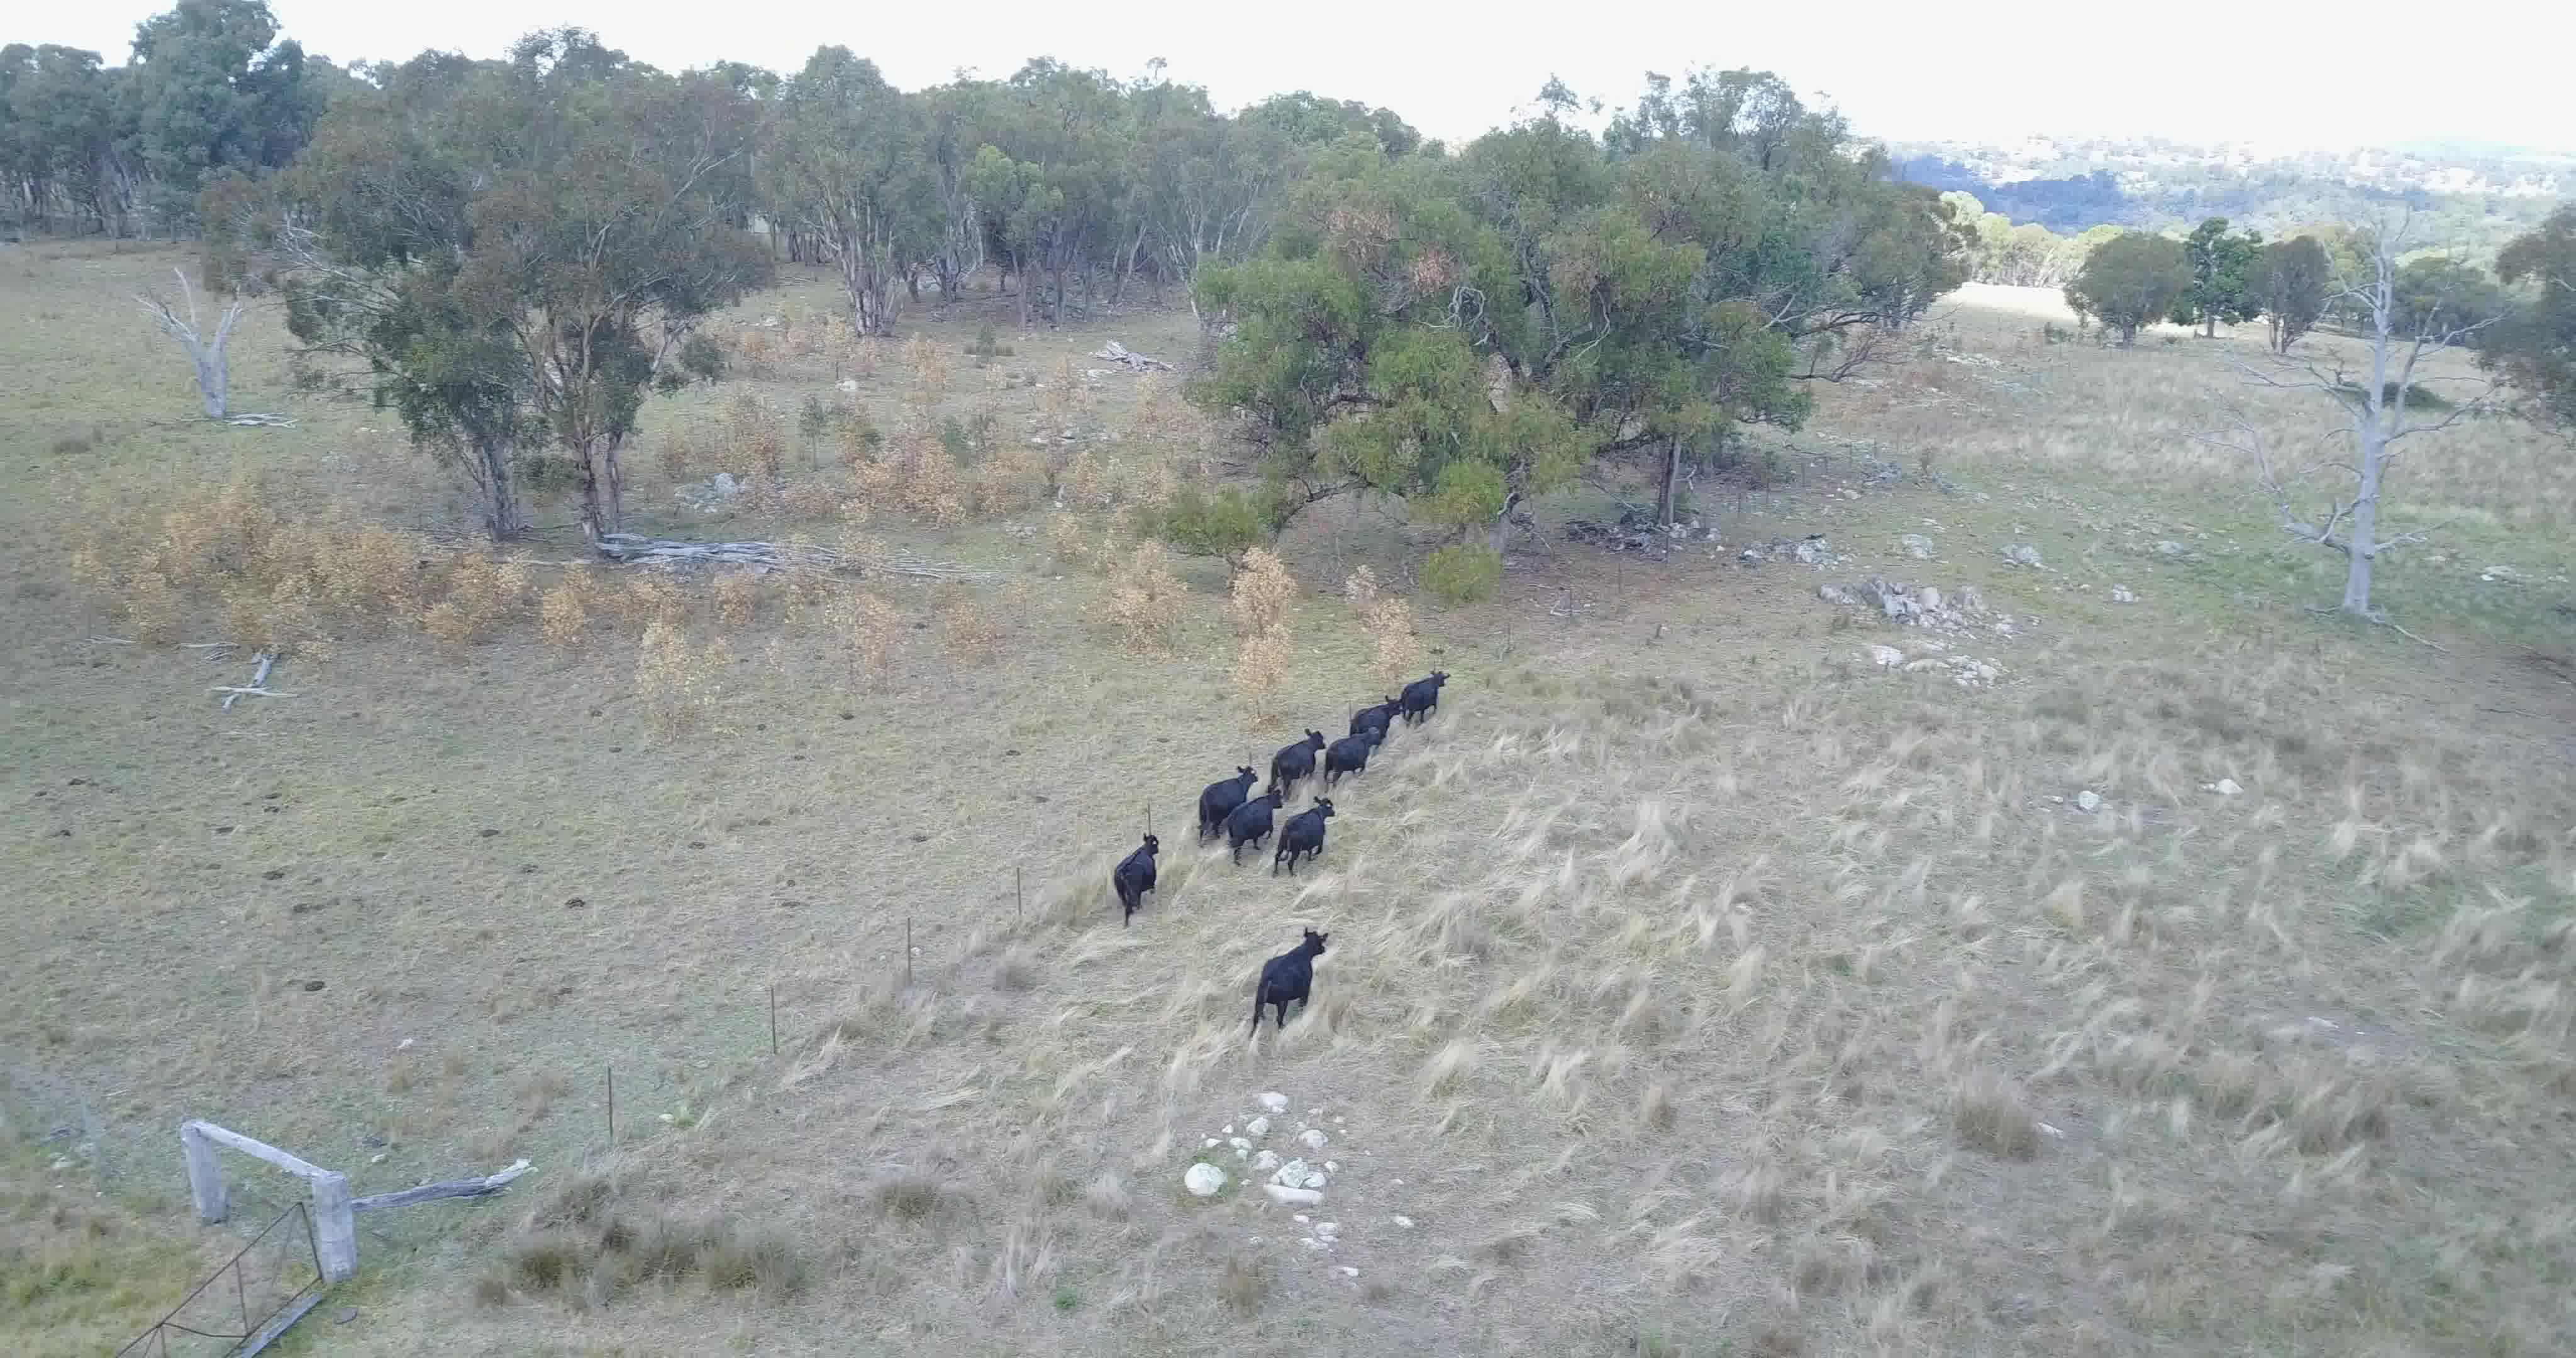cattle: (1247, 925, 1334, 1041), (1276, 794, 1336, 884), (1109, 830, 1162, 929), (1194, 765, 1257, 840), (1225, 785, 1281, 866), (1268, 726, 1327, 797), (1322, 724, 1382, 792), (1399, 665, 1453, 728), (1343, 695, 1404, 746)
